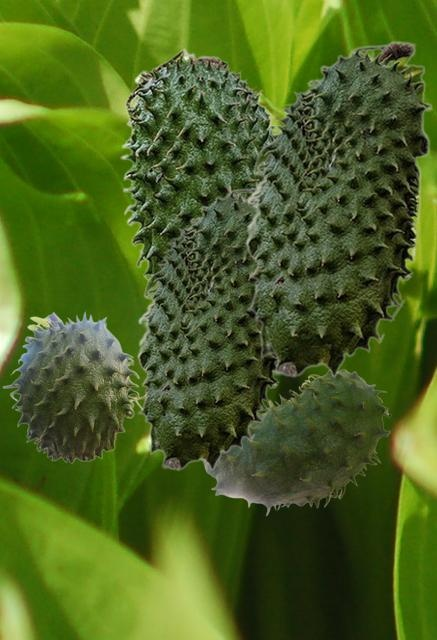guyabano: (244, 40, 431, 377), (136, 187, 280, 470), (120, 47, 275, 280), (202, 369, 390, 515), (2, 310, 143, 463)
